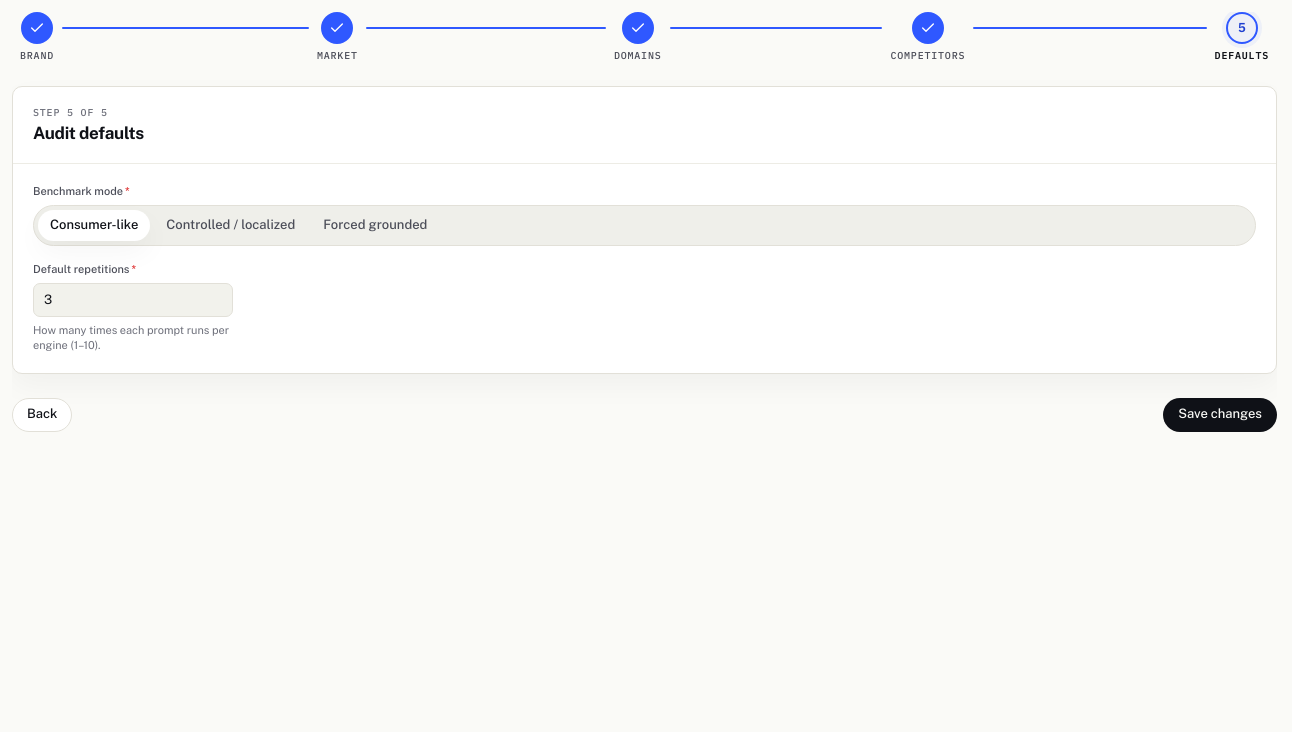
it: SetupForm — create (guided) › validates a competitor domain row in edit mode before leaving the Competitors step
Click the button "Competitors" at coordinates (928, 37), box [882,12,973,62]
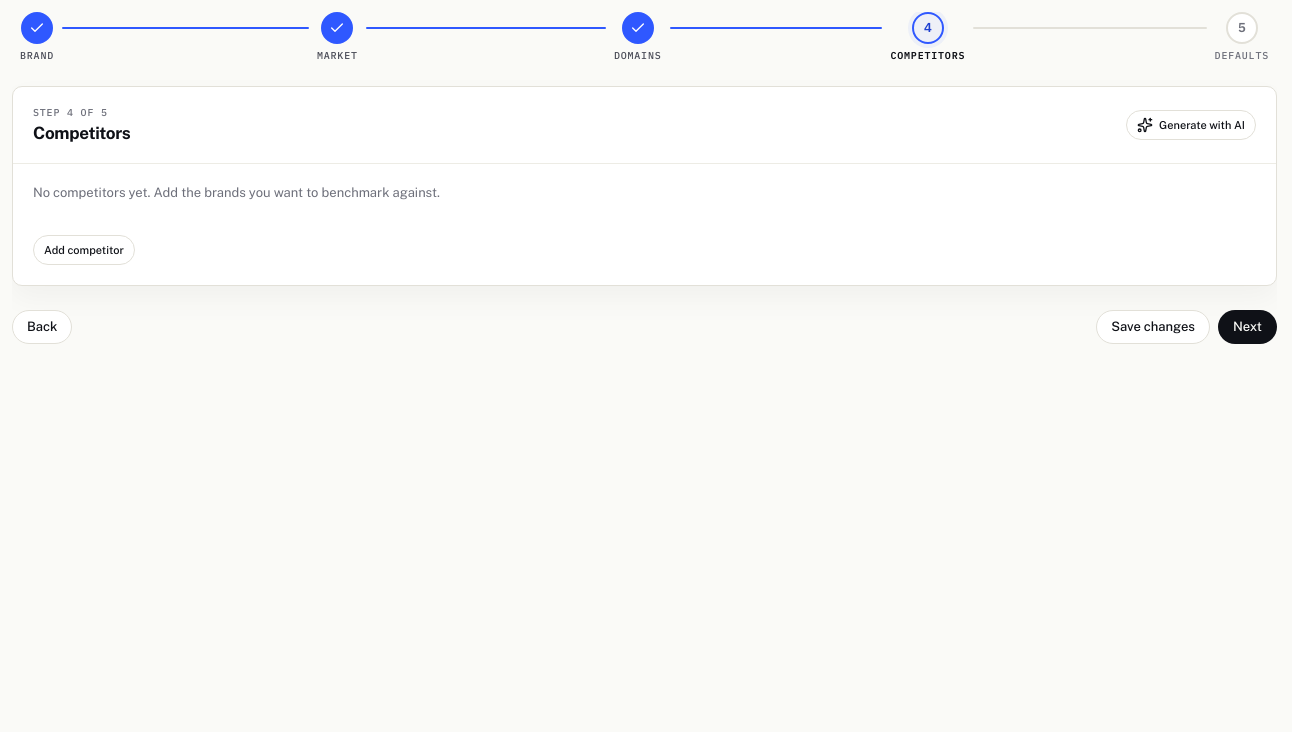
Click the button "Add competitor" at coordinates (84, 250), box [33,235,135,265]
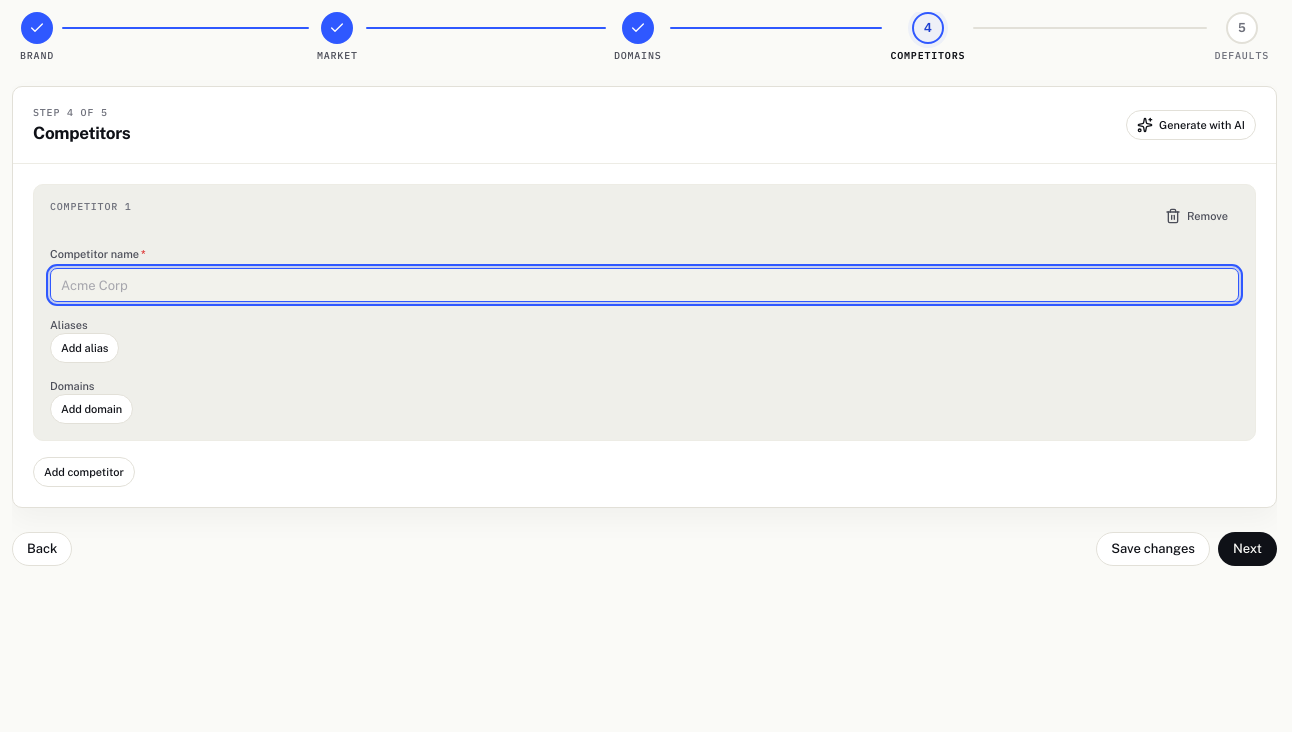
Type "Acme" into the field labelled "Competitor name*" at coordinates (644, 285), box [50,268,1239,302]
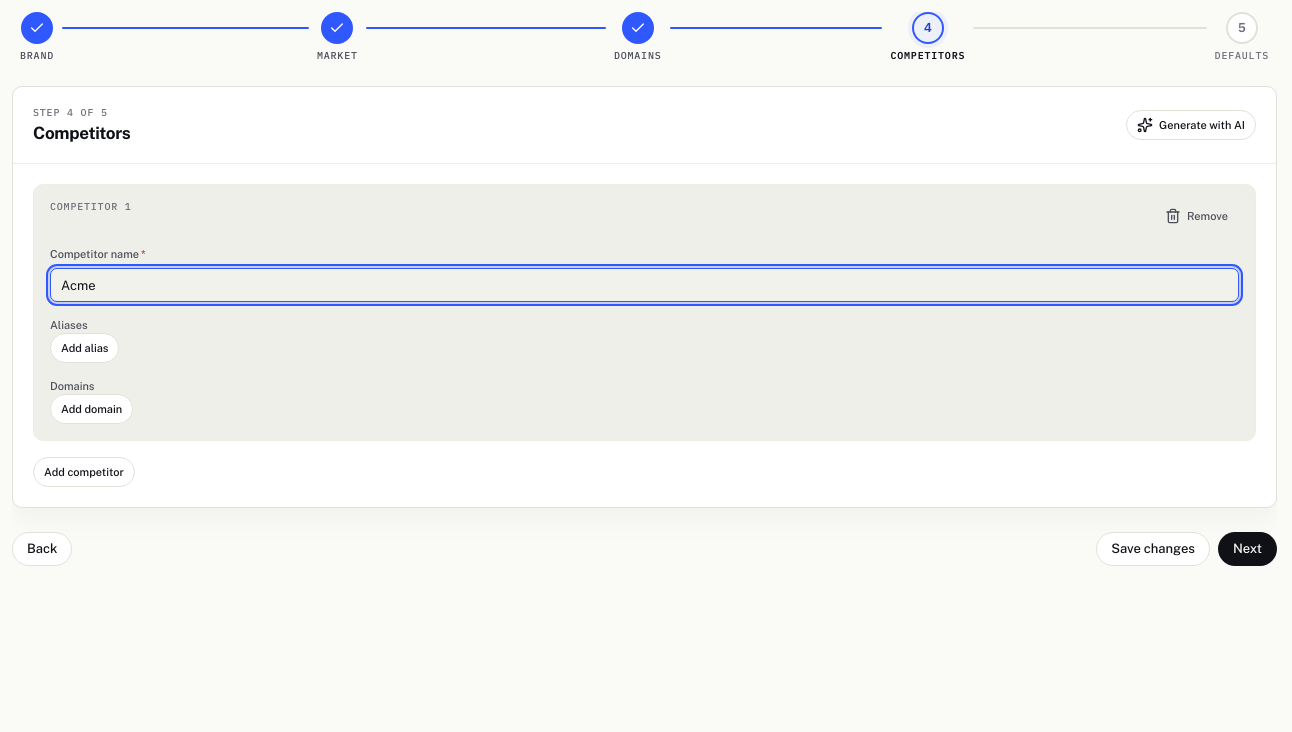
Click the button "Add domain" at coordinates (92, 409), box [50,394,133,424]
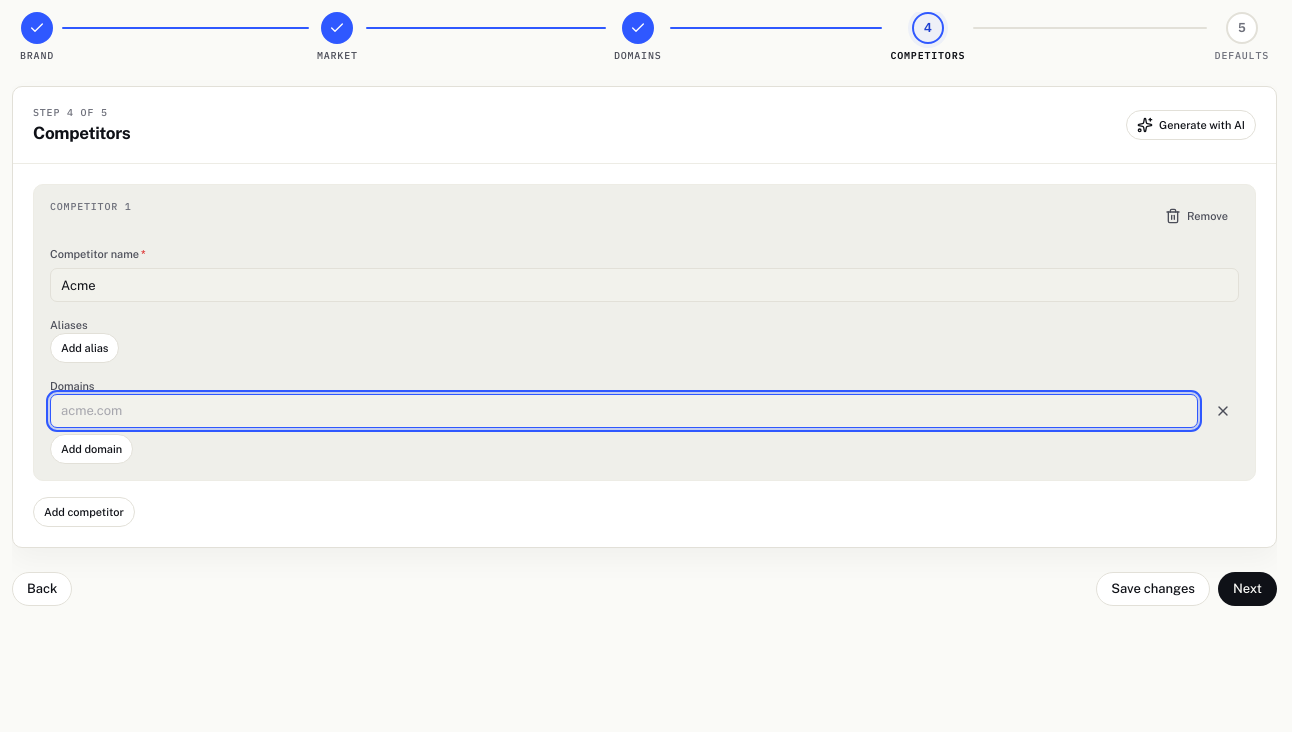
Type "not a domain" into the field named "Domains 1" at coordinates (624, 411), box [50,394,1198,428]
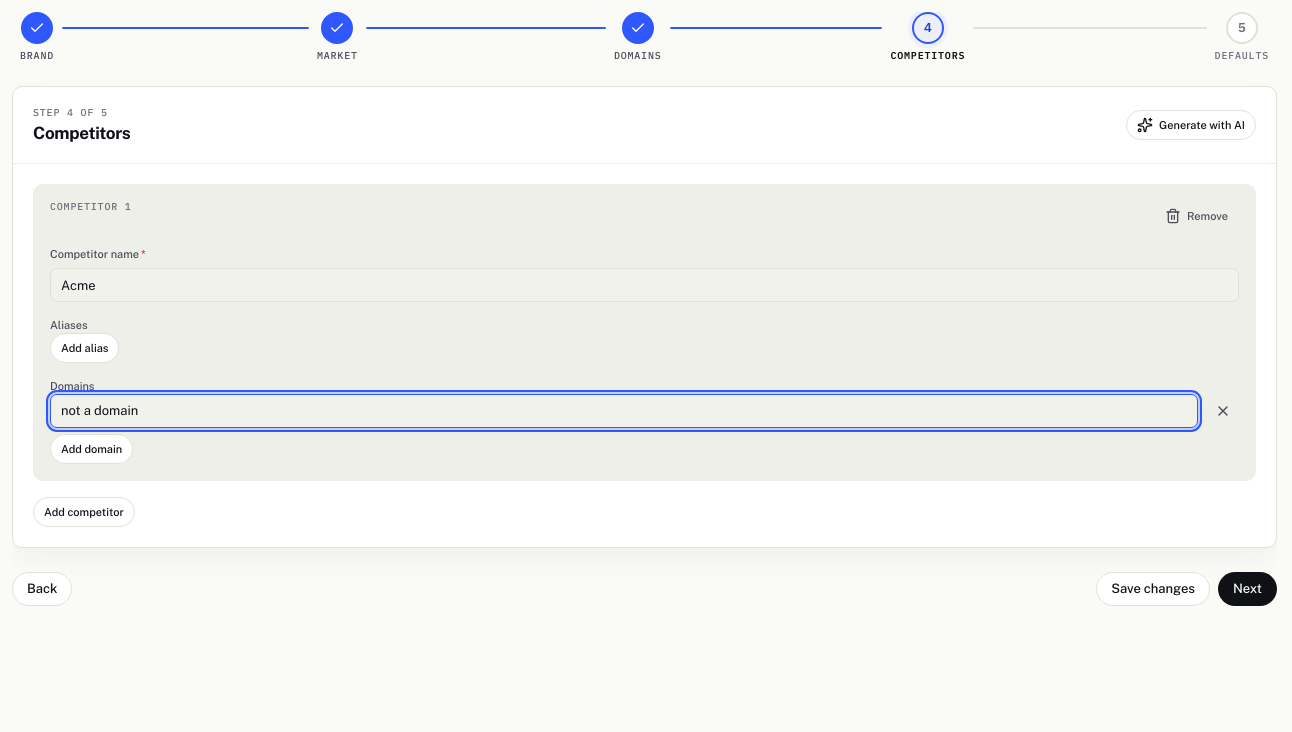
Click the button "Next" at coordinates (1248, 589), box [1218,572,1277,606]
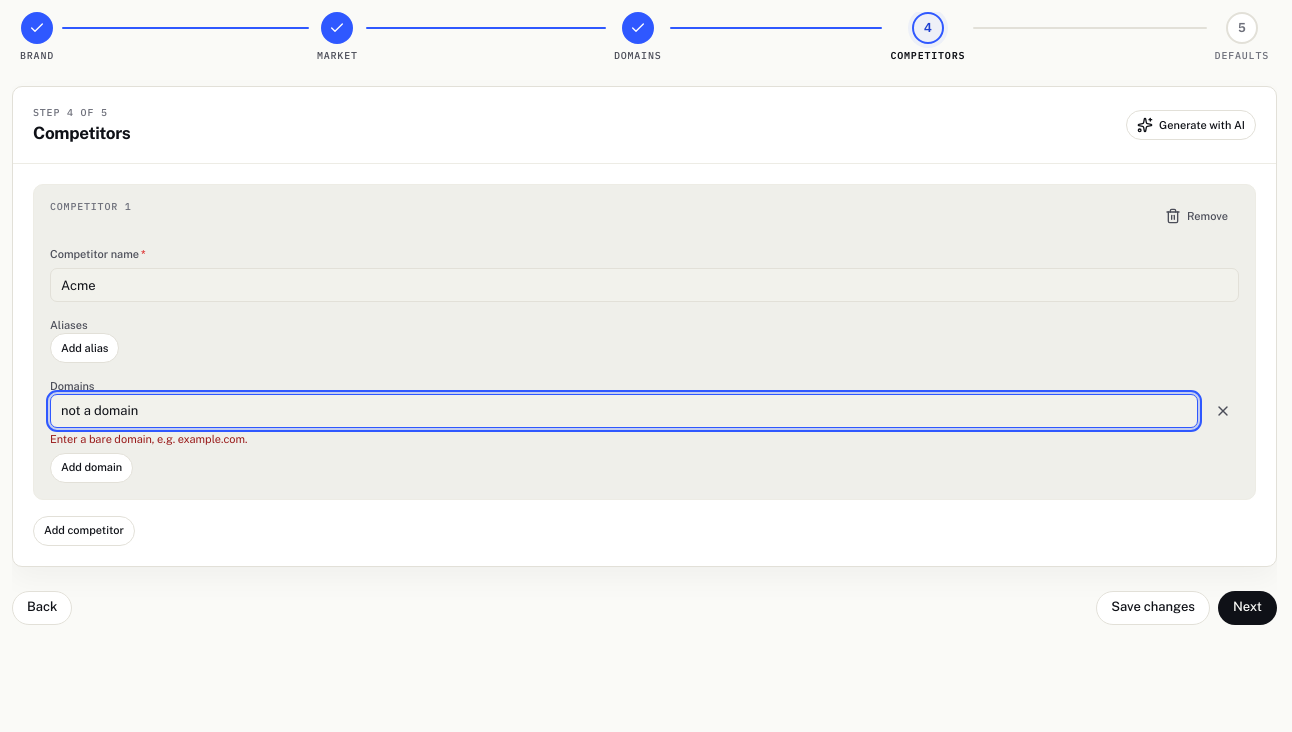
Expected: the text "Enter a bare domain, e.g. example.com." is shown, [50,433,248,445]
